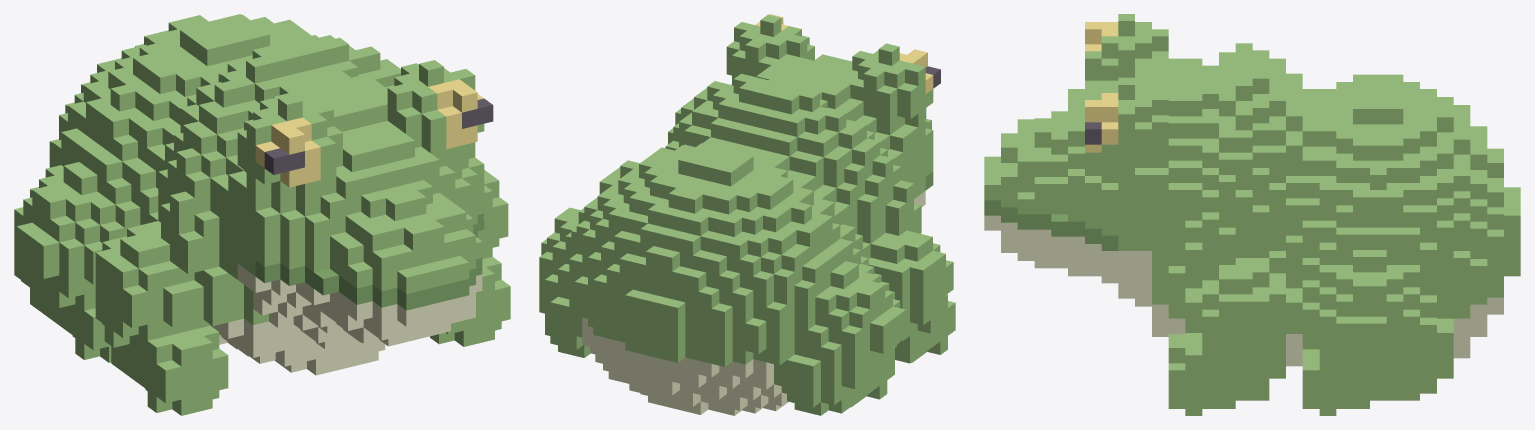
Rendered from frog.glb.
3 views of the same model, side by side, from view 1: azimuth 30°, elevation 25°; view 2: azimuth 150°, elevation 25°; view 3: azimuth 270°, elevation 25° (orthographic). The views are drawn at different scales.
Visible parts, largest first — view 1: item; view 2: item; view 3: item.
Part boxes in pixels (bbox=[...]): item: bbox=[14, 14, 510, 415]; item: bbox=[539, 14, 955, 415]; item: bbox=[984, 14, 1520, 415].
Bounding box in the file's own units: 26 × 19 × 32.
